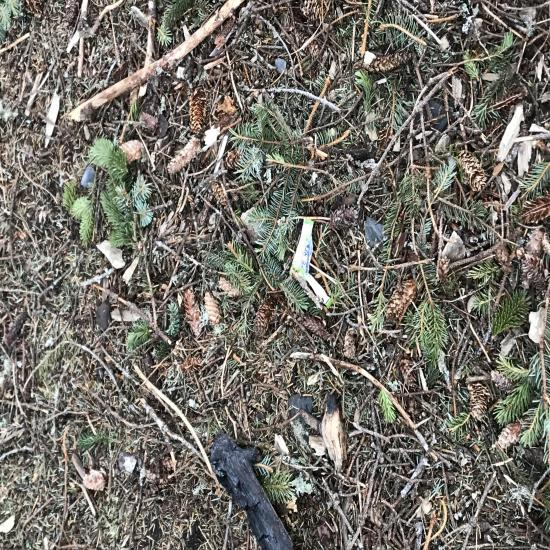Glass bottle: (223, 55, 281, 286), (144, 127, 191, 344)
Tissues: (214, 221, 293, 298)
